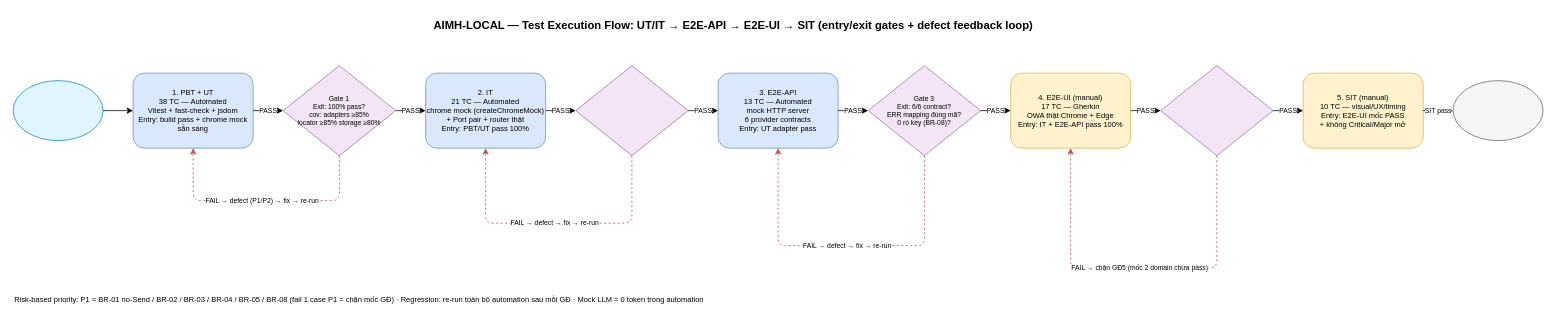
Image size: 1556x326. Some labels were removed from this diagram. The centre of each missing label's shape, as x and y in pixels:
Bắt đầu Phase 6 Testing (build GĐ-x): pixel 57 110
Gate 2 Exit: 0 key trong log? Port protocol đúng? 0 Crash SW?: pixel 631 110
Gate 4 Exit: Mốc GĐ4 PASS cả 2 domain? BR-01 verify? 0 Critical/Major mở?: pixel 1216 110
Sign-off Test Complete (RTM 100% executed): pixel 1497 110
